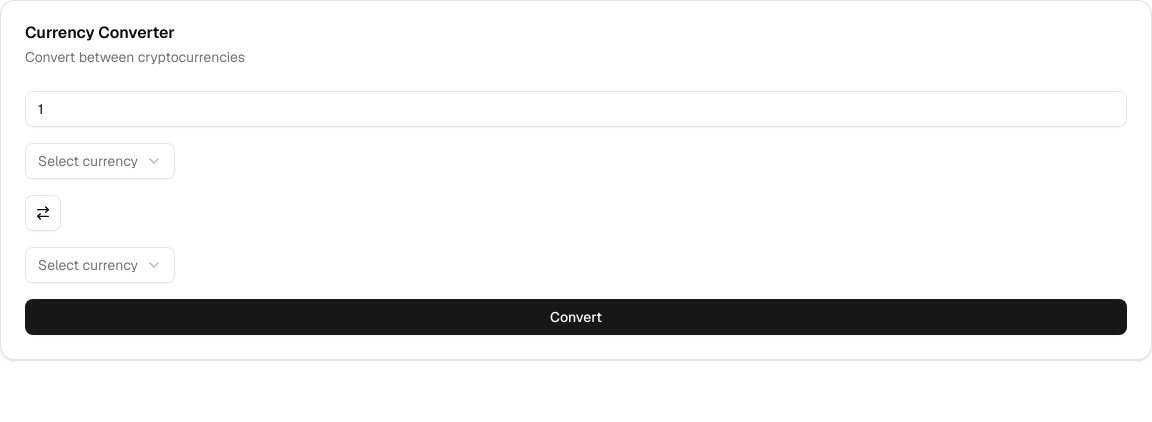
Test case: CurrencyConverter Component › shows error when amount is negative
This screenshot has width=1152, height=422.
Replace the text in the number field with placeholder "Enter amount" with "-10" at [576, 109], box [25,91,1127,127]
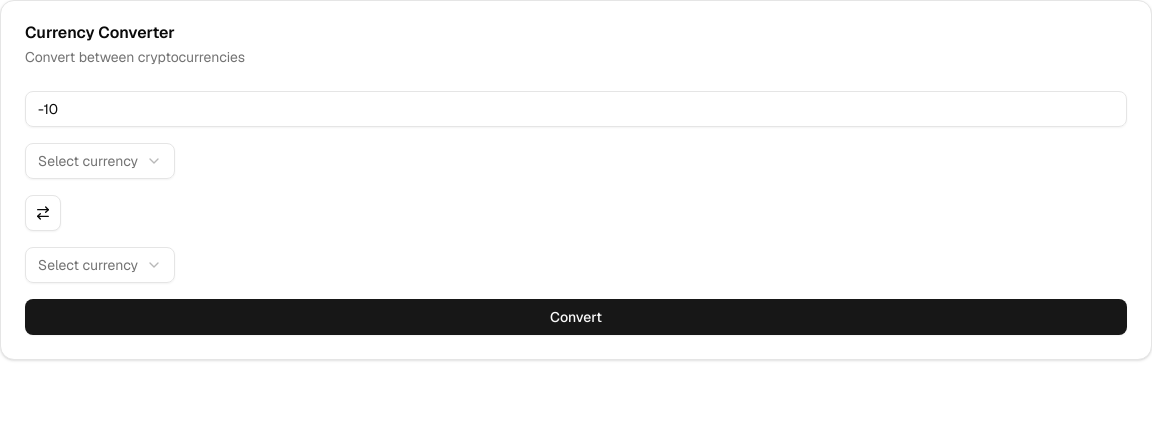
Click the button "Convert".
click(576, 317)  # box [25,299,1127,335]
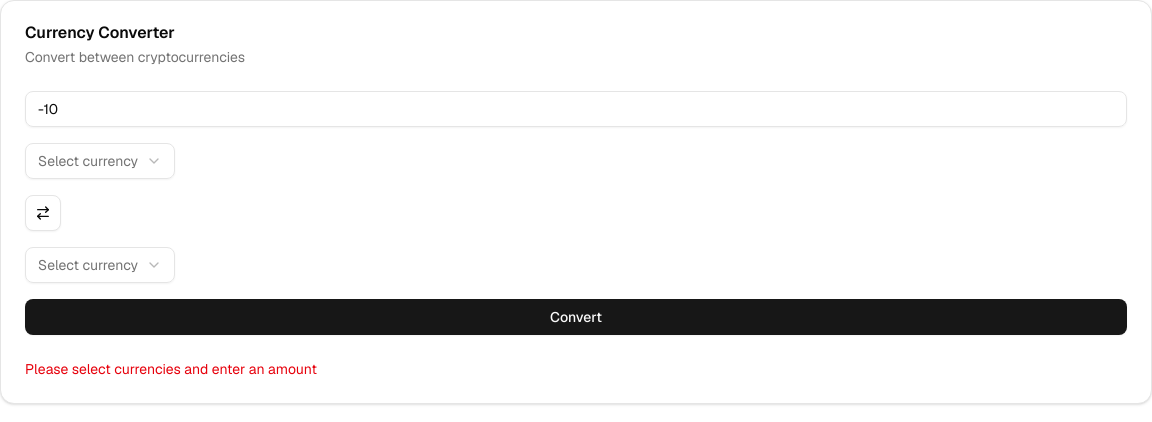
Expected: the text "Please select currencies and enter an amount" is shown, [25,360,317,378]
